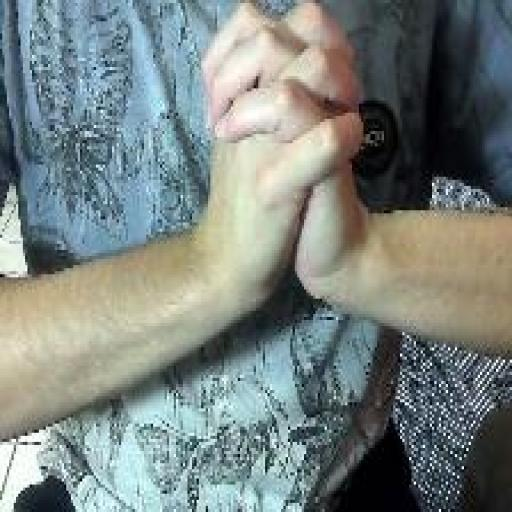Mi -snake-: (197, 0, 368, 320)
